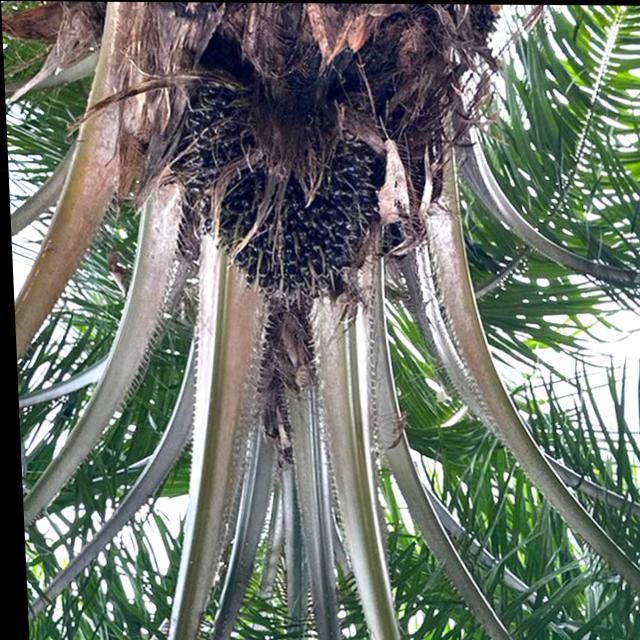unripe: (161, 91, 385, 312)
